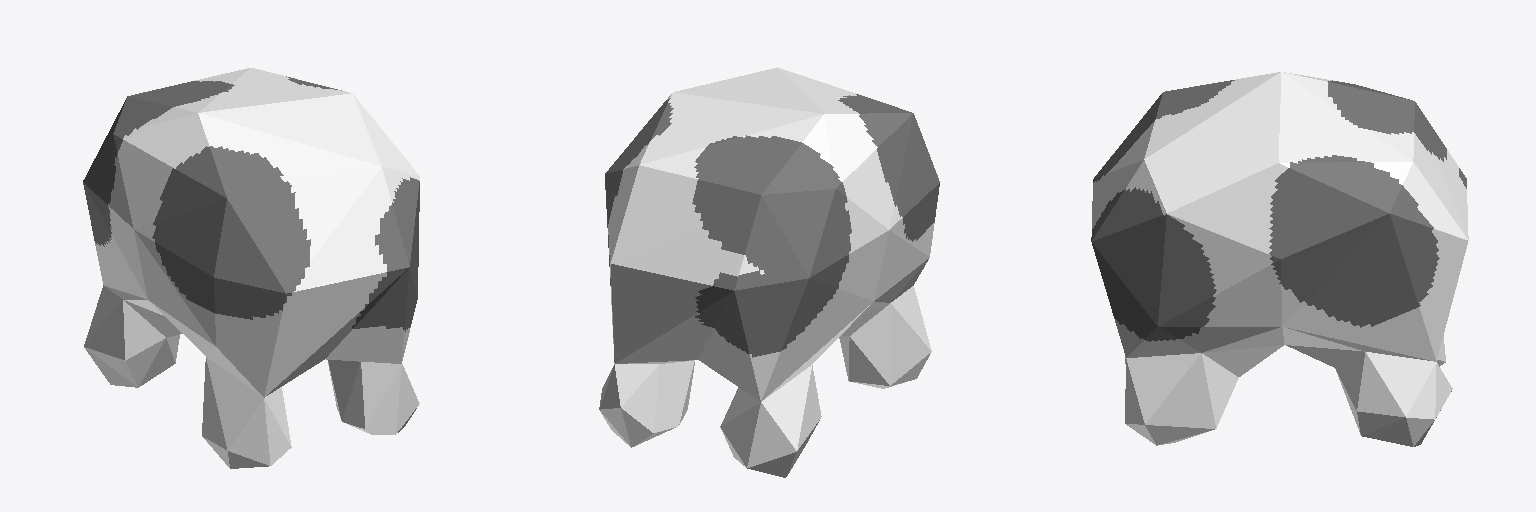
3 renders of one model, left to right at view 1: azimuth 30°, elevation 25°; view 2: azimuth 150°, elevation 25°; view 3: azimuth 270°, elevation 25°, orthographic.
Parts seen in each view (by area): view 1: Cube.001; view 2: Cube.001; view 3: Cube.001.
Part boxes in pixels (bbox=[...]): Cube.001: bbox=[83, 68, 419, 468]; Cube.001: bbox=[599, 67, 939, 477]; Cube.001: bbox=[1091, 72, 1468, 446].
Size of the model in its own units: 2.61 by 3.2 by 3.5.
Materials: 1 (1 with a texture image).